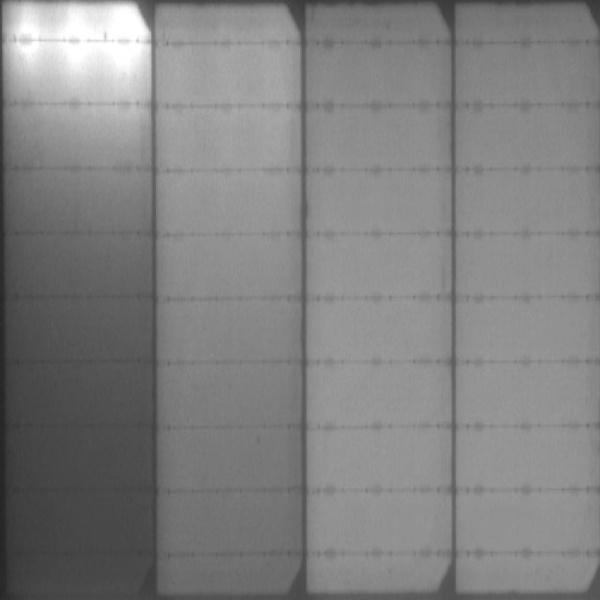hot_spot: (109, 14, 140, 39), (114, 45, 135, 63), (73, 47, 92, 62), (75, 26, 92, 41)
